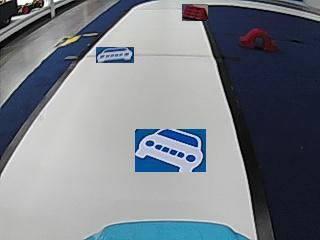bridge: (239, 27, 275, 50)
